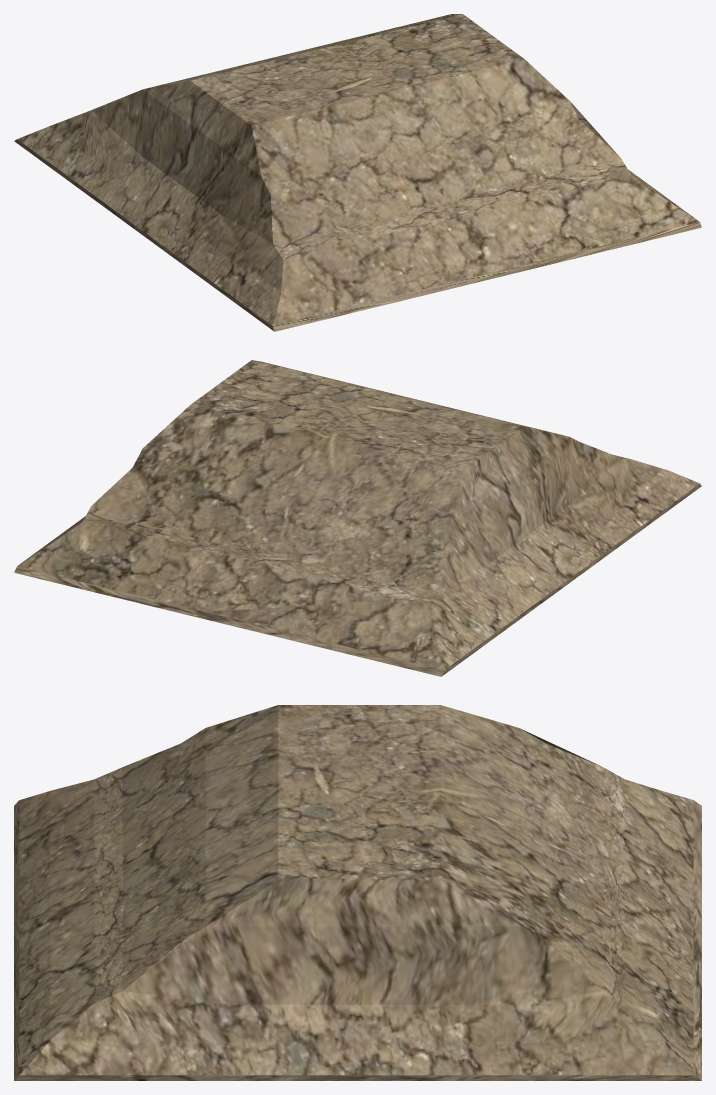
3 renders of one model, top to bottom at view 1: azimuth 30°, elevation 25°; view 2: azimuth 150°, elevation 25°; view 3: azimuth 270°, elevation 25°, orthographic. The views are drawn at different scales.
Visible parts, largest first — view 1: Box001; view 2: Box001; view 3: Box001.
Boxes of the visible parts, bbox=[...] form: Box001: bbox=[14, 14, 701, 331]; Box001: bbox=[14, 360, 701, 676]; Box001: bbox=[14, 705, 701, 1080].
Size of the model in its own units: 106 by 27.16 by 113.
Materials: 1 (1 with a texture image).
